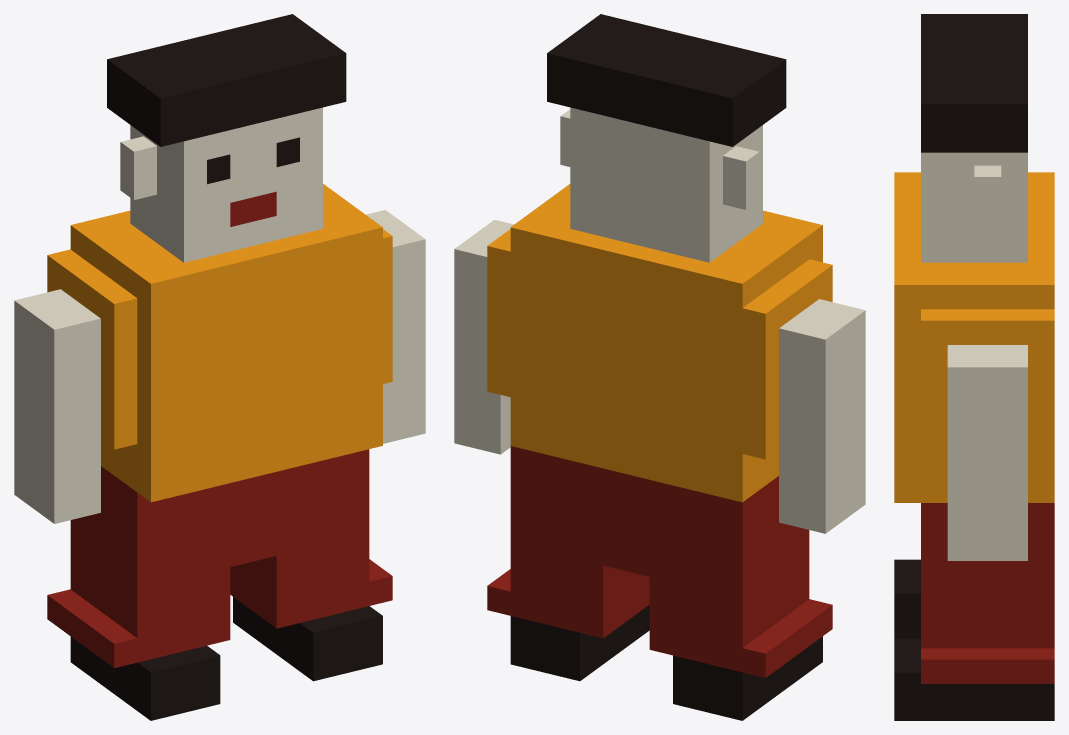
Rendered from player.obj.
3 views of the same model, side by side, from view 1: azimuth 30°, elevation 25°; view 2: azimuth 150°, elevation 25°; view 3: azimuth 270°, elevation 25° (orthographic).
Bounding box in the file's own units: 1.6 × 2.5 × 0.6.
Materials: 1 (1 with a texture image).
